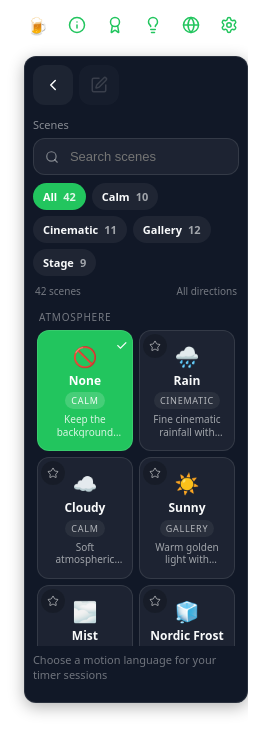
Test case: filters weather scenes by art direction chips
Click the button with aria-label "Filter scenes by Gallery": (172, 230) 133,216 -> 210,243
(page scrolled)
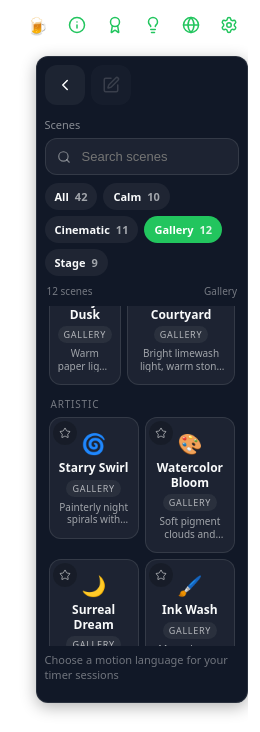
Result: the text "Watercolor Bloom" is shown at 154,461 -> 226,490
